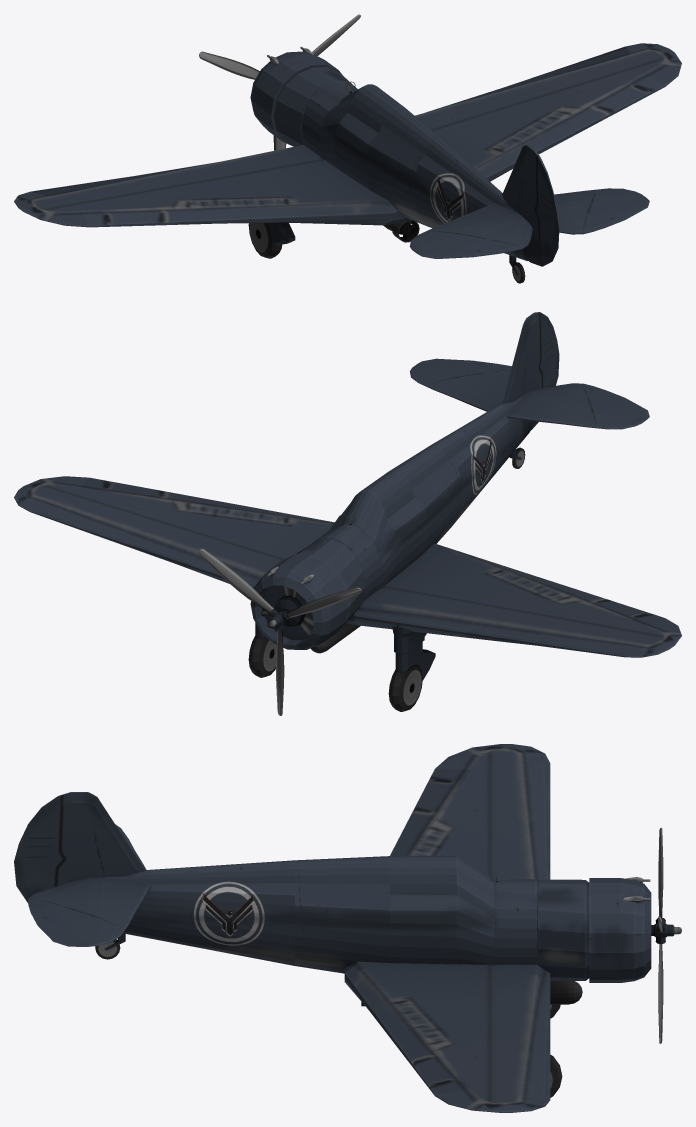
Rendered from BONHAOfn.fbx.
3 renders of one model, top to bottom at view 1: azimuth 30°, elevation 25°; view 2: azimuth 150°, elevation 25°; view 3: azimuth 270°, elevation 25°, orthographic. The views are drawn at different scales.
Parts seen in each view (by area): view 1: Cube.008, Cylinder.004, Cylinder.015; view 2: Cube.008, Cylinder.004, Cylinder.018; view 3: Cube.008, Cylinder.004, Cylinder.018, Cylinder.015.
Boxes of the visible parts, x1=… form: Cube.008: x1=14, y1=43, x2=681, y2=283; Cylinder.004: x1=199, y1=14, x2=360, y2=150; Cylinder.015: x1=383, y1=220, x2=419, y2=242; Cube.008: x1=14, y1=312, x2=681, y2=711; Cylinder.004: x1=198, y1=548, x2=361, y2=715; Cylinder.018: x1=329, y1=490, x2=384, y2=540; Cube.008: x1=14, y1=744, x2=651, y2=1112; Cylinder.004: x1=651, y1=827, x2=681, y2=1043; Cylinder.018: x1=457, y1=856, x2=494, y2=907; Cylinder.015: x1=361, y1=981, x2=582, y2=1006.
Bounding box in the file's own units: 245 × 84.27 × 188.
